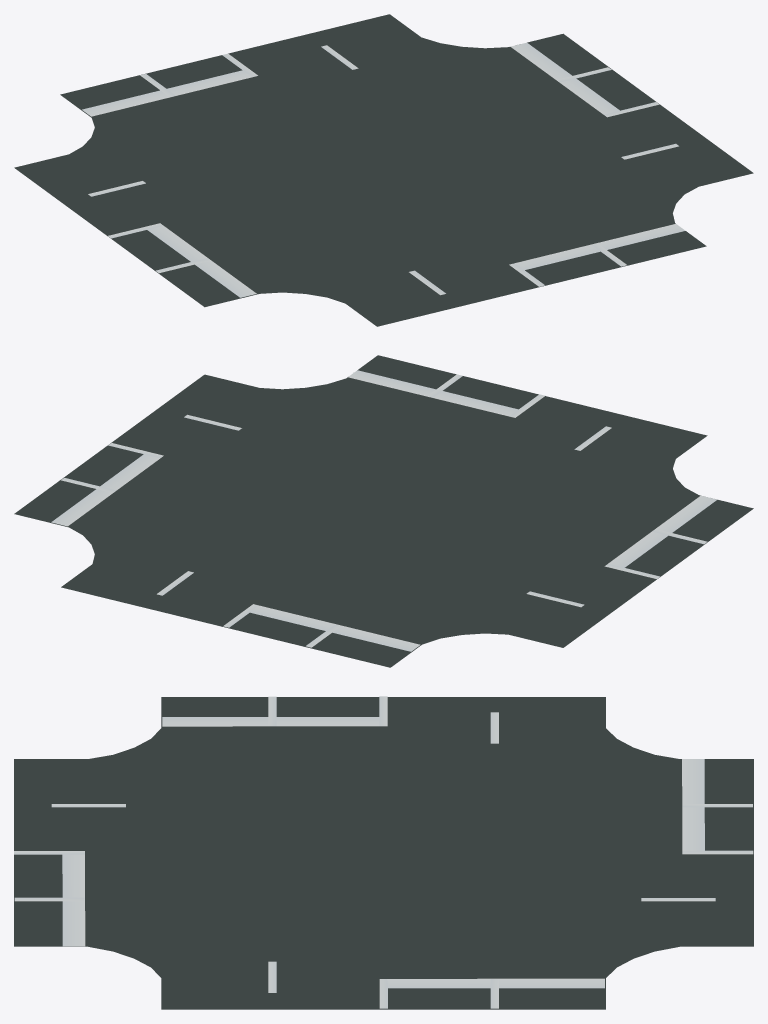
The model's file is Road_2_210.fbx.
3 renders of one model, top to bottom at view 1: azimuth 30°, elevation 25°; view 2: azimuth 150°, elevation 25°; view 3: azimuth 270°, elevation 25°, orthographic. The views are drawn at different scales.
Visible parts, largest first — view 1: Road_2_210; view 2: Road_2_210; view 3: Road_2_210.
Part boxes in pixels (<box>): Road_2_210: <box>14,14,753,326</box>; Road_2_210: <box>14,355,753,667</box>; Road_2_210: <box>14,696,753,1009</box>.
Size of the model in its own units: 2996 by 1.66 by 2996.
